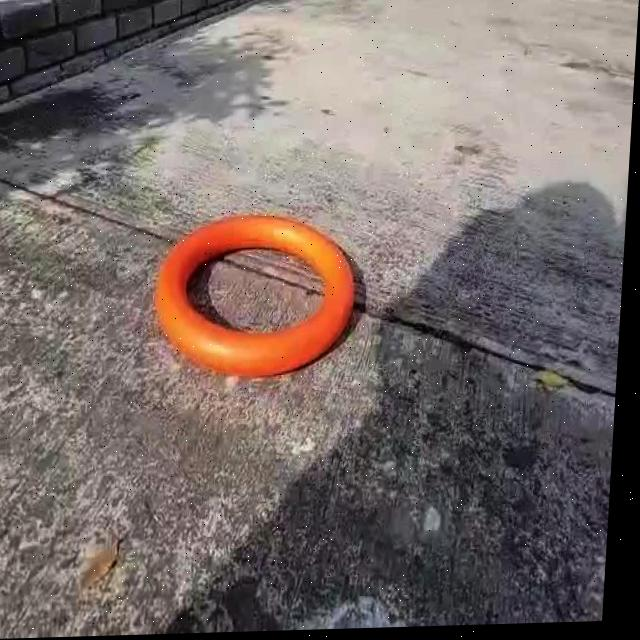note: (161, 211, 371, 383)
